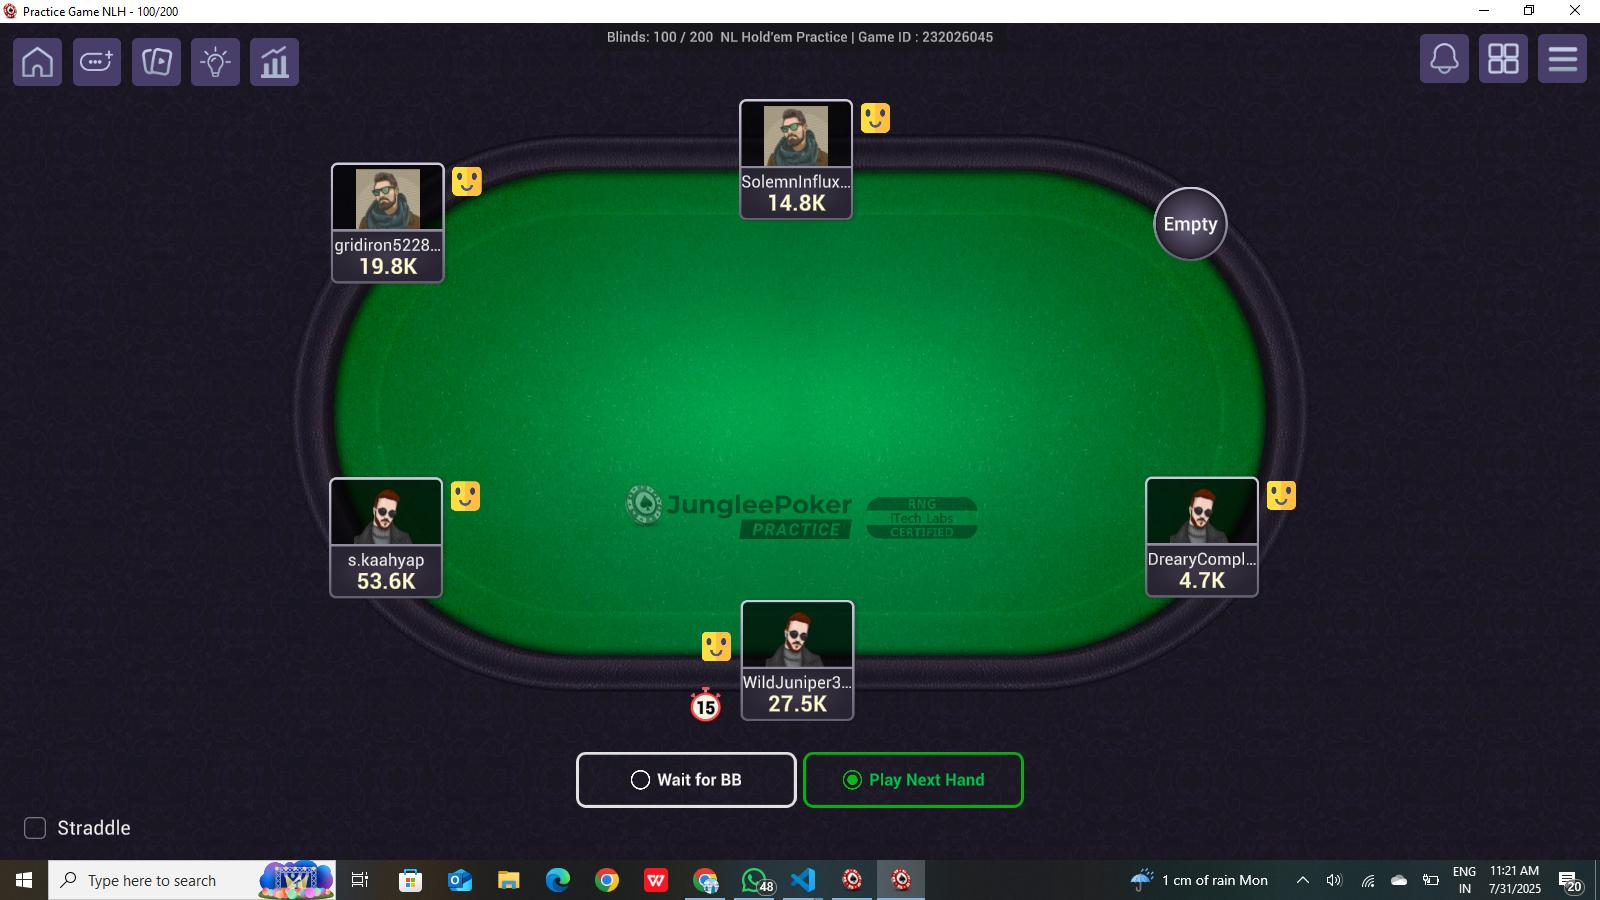game_id: (849, 16, 1007, 59)
my_stack: (738, 684, 860, 721)
villian1_name: (327, 541, 442, 569)
villian1_stack: (327, 565, 448, 597)
villian2_name: (330, 226, 443, 260)
villian2_stack: (332, 248, 445, 286)
villian3_name: (740, 170, 849, 195)
villian3_stack: (742, 191, 856, 221)
villian5_name: (1146, 541, 1260, 569)
villian5_stack: (1146, 565, 1256, 599)
